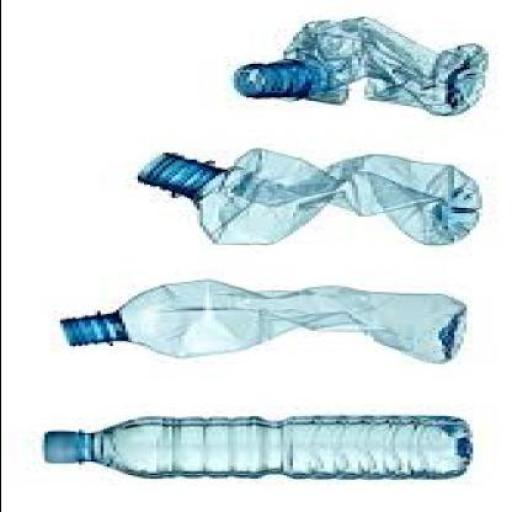plastic: (134, 150, 478, 248), (56, 282, 462, 365), (40, 418, 466, 480), (227, 16, 481, 118), (37, 433, 81, 465)
